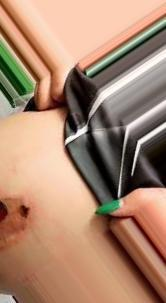Spider: (0, 195, 30, 247)
